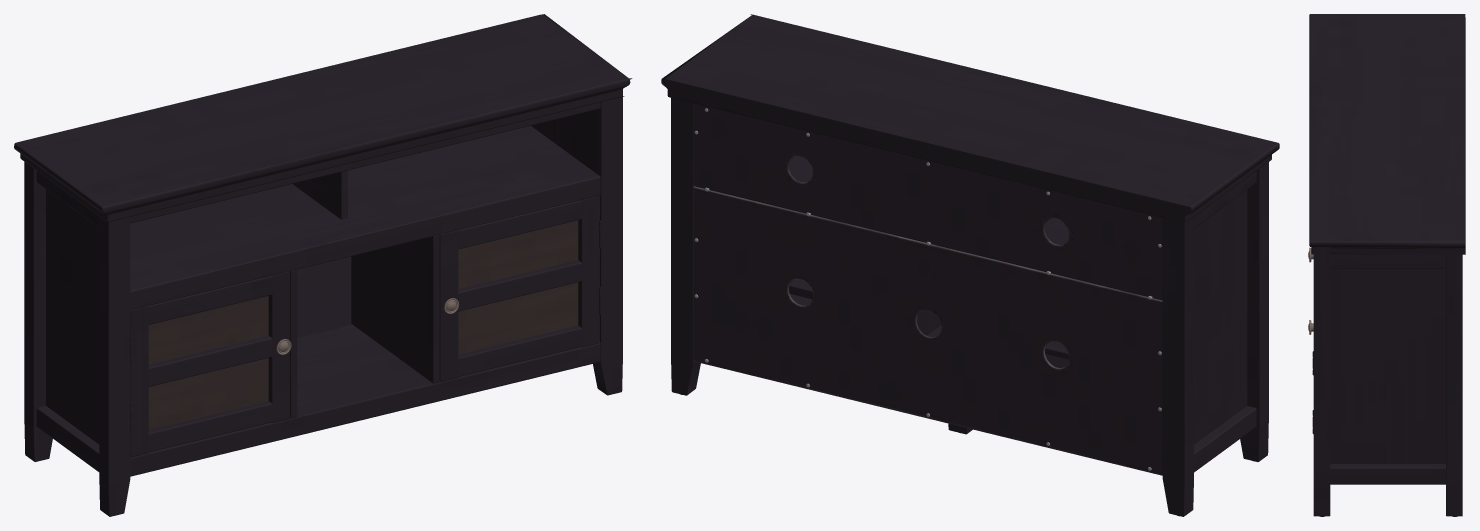
Rendered from abo-B07ML7P93X.glb.
3 renders of one model, left to right at view 1: azimuth 30°, elevation 25°; view 2: azimuth 150°, elevation 25°; view 3: azimuth 270°, elevation 25°, orthographic. The views are drawn at different scales.
Bounding box in the file's own units: 1.2 × 0.681 × 0.347.
1 material, 1 textured.
